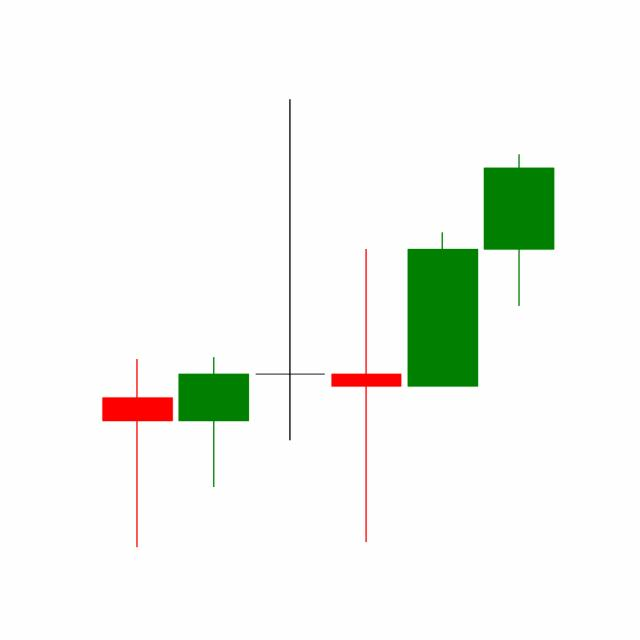Marubozu: (403, 230, 481, 388)
